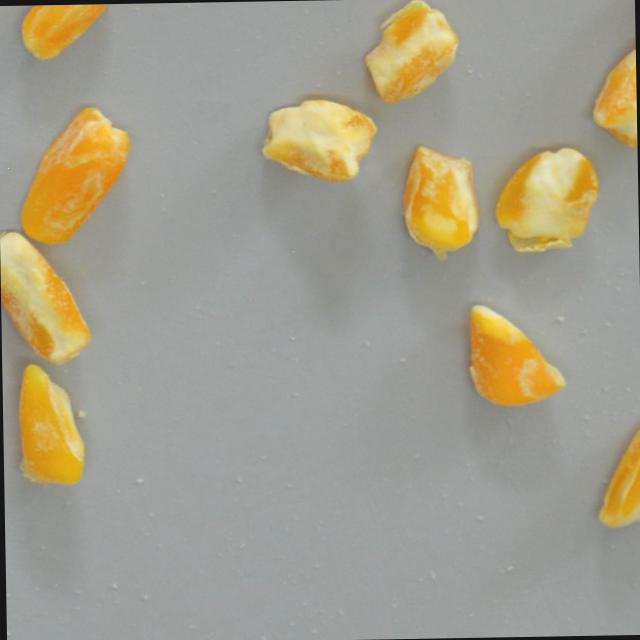dañado: (13, 101, 139, 249), (0, 223, 101, 366), (488, 141, 605, 259), (461, 300, 573, 411), (357, 0, 466, 109), (395, 140, 485, 264), (13, 361, 93, 492), (11, 4, 117, 66), (594, 404, 640, 535), (589, 37, 637, 151)
punto_negro: (256, 94, 382, 188)
